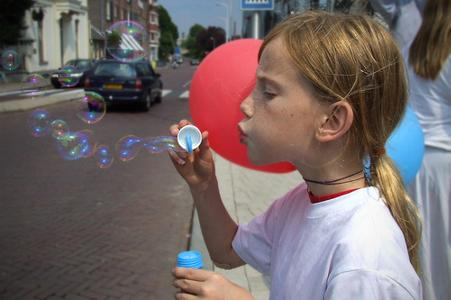person: (164, 13, 426, 300)
